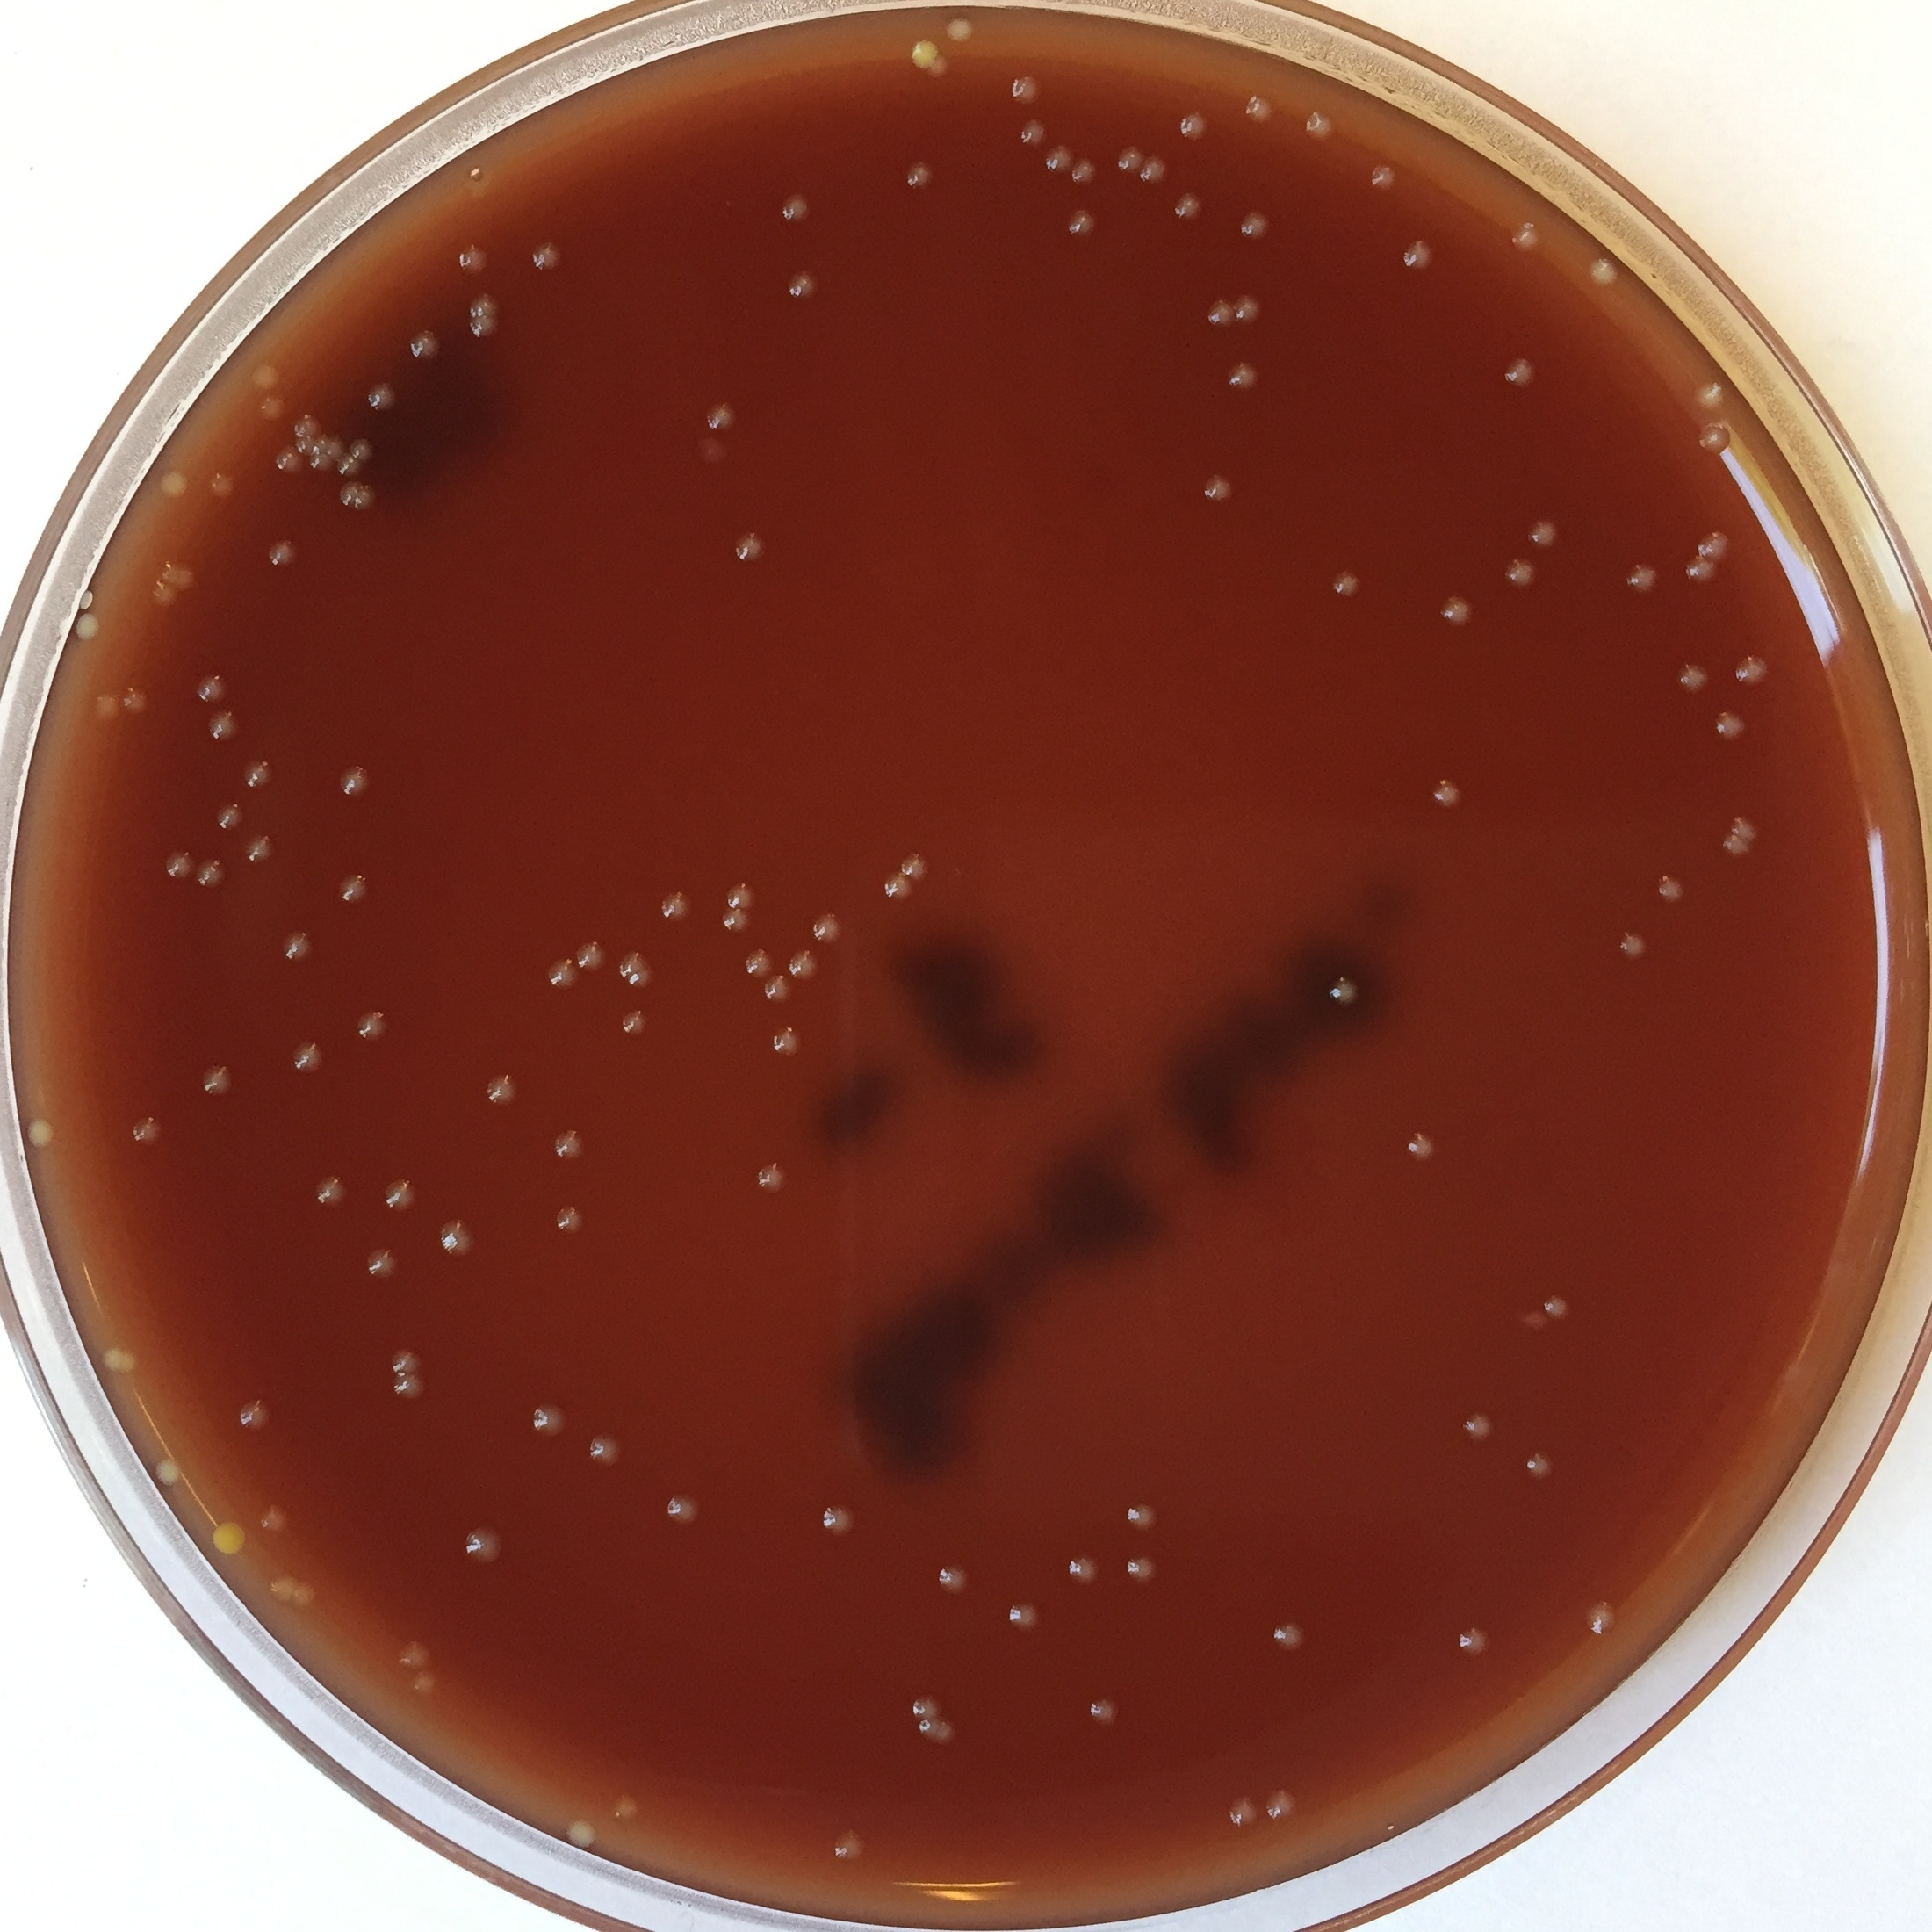sp06: (433, 1214, 483, 1261), (932, 1557, 978, 1601), (614, 945, 658, 989), (209, 1513, 249, 1559), (311, 1168, 350, 1215), (479, 1069, 520, 1111), (809, 909, 849, 952), (127, 1108, 170, 1148), (382, 1166, 416, 1217), (464, 1525, 508, 1564), (616, 1005, 656, 1046), (752, 1157, 793, 1198), (1428, 775, 1468, 816), (1730, 651, 1771, 692), (1691, 527, 1732, 568), (331, 870, 372, 911), (1582, 1596, 1621, 1638), (195, 669, 237, 708), (663, 1490, 706, 1529), (817, 1500, 862, 1537), (1200, 471, 1244, 508), (784, 947, 824, 985), (832, 1826, 870, 1867), (757, 968, 794, 1010), (1269, 1617, 1307, 1656), (1325, 973, 1364, 1012), (529, 1399, 566, 1440), (561, 1813, 602, 1851), (1263, 1787, 1304, 1824), (1435, 593, 1476, 630), (249, 354, 287, 395), (915, 1714, 957, 1750), (292, 1037, 329, 1076), (770, 1023, 807, 1062), (1005, 1599, 1044, 1637), (1224, 1794, 1263, 1831), (1674, 658, 1713, 695), (777, 189, 814, 228), (202, 708, 241, 745), (363, 1246, 403, 1281), (25, 1115, 60, 1155), (389, 1368, 430, 1403), (1711, 706, 1748, 743), (1401, 237, 1438, 274), (1583, 253, 1621, 290), (334, 764, 372, 801), (1499, 557, 1537, 593), (1237, 207, 1276, 242), (902, 157, 941, 193), (1242, 94, 1281, 129), (274, 929, 313, 964), (393, 1638, 433, 1672), (1523, 518, 1564, 552), (1499, 356, 1539, 389), (1230, 290, 1263, 331), (729, 529, 770, 563), (354, 1008, 389, 1046), (550, 1203, 587, 1238), (740, 948, 777, 984), (1123, 1500, 1161, 1536), (1697, 421, 1734, 456), (1691, 379, 1727, 416), (784, 269, 821, 304), (941, 12, 978, 48), (363, 377, 398, 414), (589, 1430, 626, 1465), (554, 1125, 587, 1164), (568, 941, 607, 975), (1460, 1410, 1499, 1444), (1621, 561, 1660, 594), (191, 855, 230, 888), (1454, 1626, 1495, 1658), (1679, 554, 1721, 584), (198, 1062, 234, 1097), (241, 1398, 276, 1433), (1652, 870, 1688, 906), (1086, 1693, 1123, 1727), (1067, 1552, 1104, 1585), (1329, 566, 1366, 600), (1509, 221, 1546, 255), (1224, 359, 1261, 393), (1012, 74, 1049, 108), (527, 239, 564, 272), (718, 902, 754, 936), (879, 870, 915, 904), (1125, 1552, 1161, 1585), (1615, 929, 1651, 962), (1173, 191, 1208, 225), (405, 327, 441, 361), (704, 398, 738, 433), (724, 879, 761, 911), (607, 1792, 644, 1824), (73, 609, 103, 648), (927, 51, 957, 90), (545, 957, 579, 991), (897, 851, 931, 885), (1523, 1451, 1557, 1484), (1727, 810, 1760, 844), (1065, 207, 1099, 241), (1177, 111, 1210, 145), (264, 538, 297, 571), (257, 1502, 292, 1534), (1205, 295, 1237, 331), (455, 242, 490, 274), (211, 798, 242, 833), (163, 849, 195, 885), (1401, 1132, 1438, 1162), (906, 28, 934, 67), (267, 1571, 299, 1605), (287, 1576, 320, 1608), (1138, 154, 1171, 186), (1368, 161, 1401, 193), (157, 467, 191, 499), (272, 444, 304, 478), (658, 892, 694, 922), (154, 1453, 184, 1488), (909, 1691, 945, 1721), (115, 1343, 143, 1380), (117, 685, 149, 717), (391, 1346, 425, 1376), (1017, 119, 1051, 149), (1069, 156, 1102, 186), (1115, 143, 1145, 177), (241, 761, 274, 791), (1720, 833, 1757, 860), (1541, 1293, 1571, 1325), (1304, 110, 1336, 140), (92, 690, 122, 722), (242, 833, 274, 863), (1042, 145, 1072, 175), (306, 449, 336, 479), (471, 288, 499, 320), (467, 315, 499, 343), (347, 433, 375, 465), (258, 393, 285, 426), (407, 1670, 444, 1693), (96, 1341, 119, 1378), (145, 579, 173, 609), (324, 433, 352, 464), (354, 483, 380, 515), (163, 561, 189, 591), (292, 409, 318, 439), (334, 453, 363, 479), (338, 479, 361, 511), (209, 474, 237, 499)
